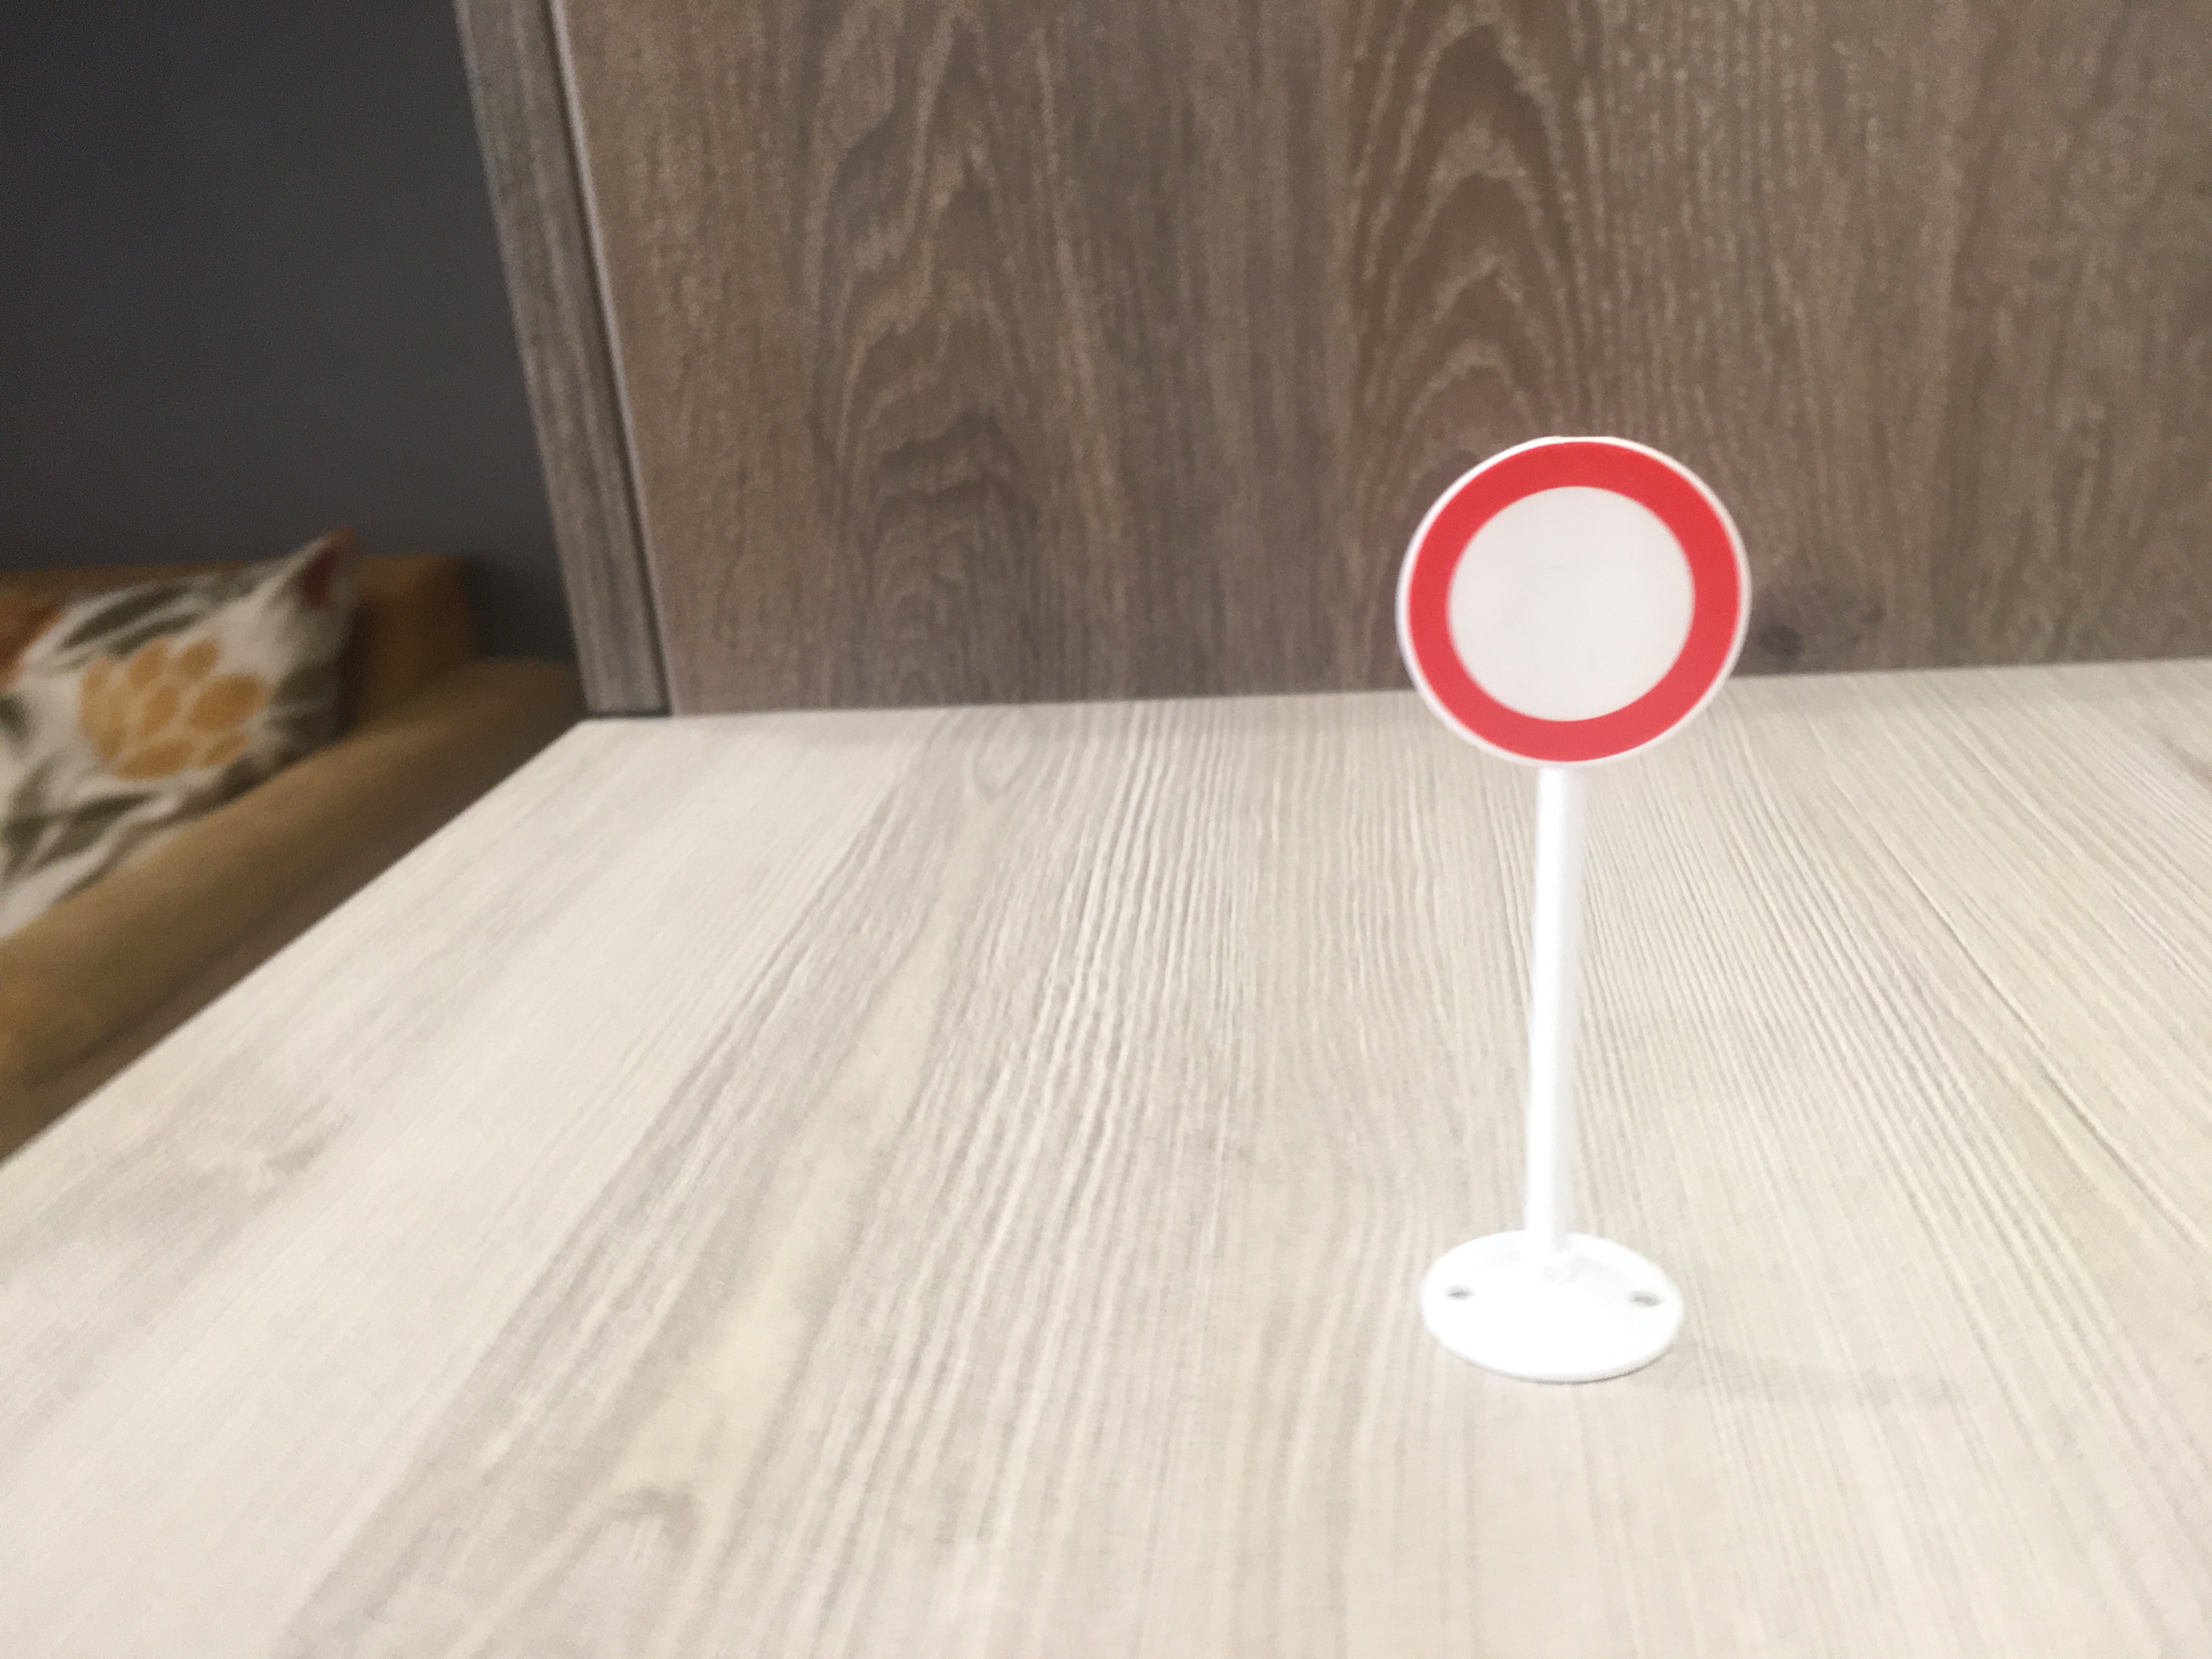noDrive: (1392, 436, 1756, 770)
